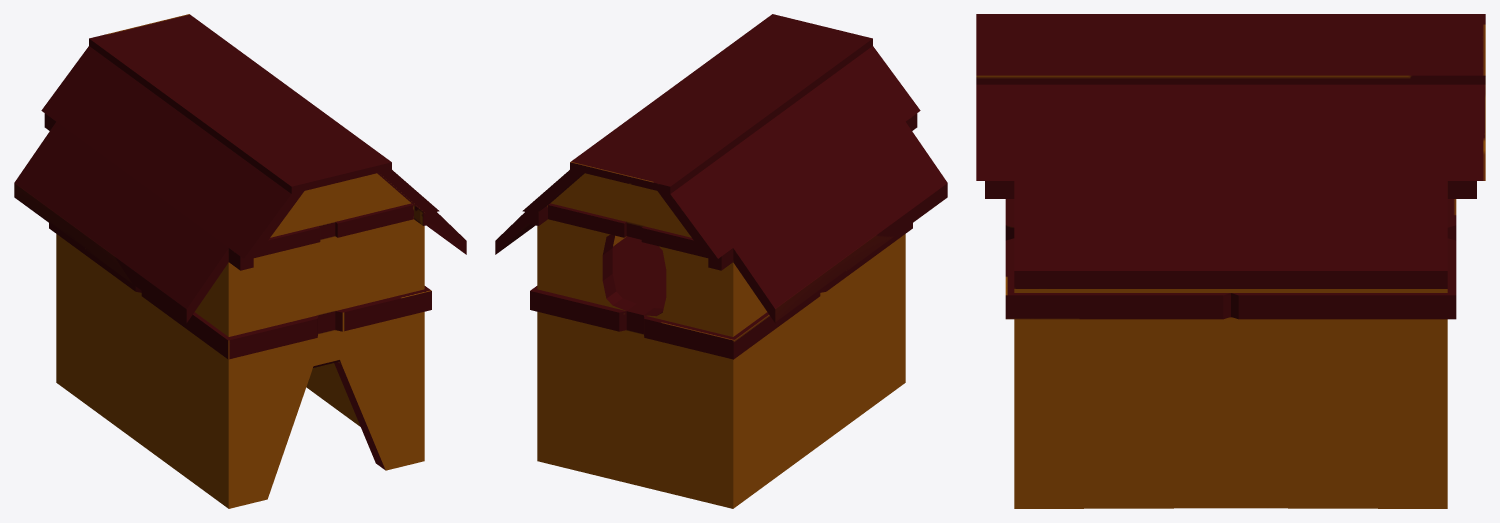
Rendered from House2.glb.
3 views of the same model, side by side, from view 1: azimuth 30°, elevation 25°; view 2: azimuth 150°, elevation 25°; view 3: azimuth 270°, elevation 25° (orthographic). The views are drawn at different scales.
Parts seen in each view (by area): view 1: Cube; view 2: Cube; view 3: Cube.
Part boxes in pixels (x1=…): Cube: x1=14, y1=14, x2=466, y2=508; Cube: x1=495, y1=14, x2=947, y2=508; Cube: x1=976, y1=14, x2=1485, y2=508.
Bounding box in the file's own units: 32.5 × 35.65 × 40.7.
Materials: 1 (1 with a texture image).
